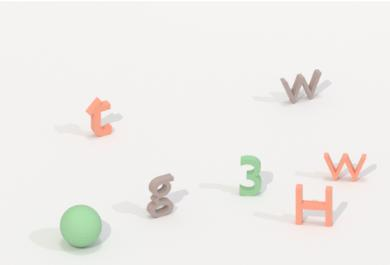3: (234, 150, 266, 200)
H: (55, 202, 107, 252), (292, 179, 337, 231)
W: (278, 65, 326, 107), (319, 146, 370, 184)
g: (143, 168, 176, 223)
t: (80, 93, 117, 141)
